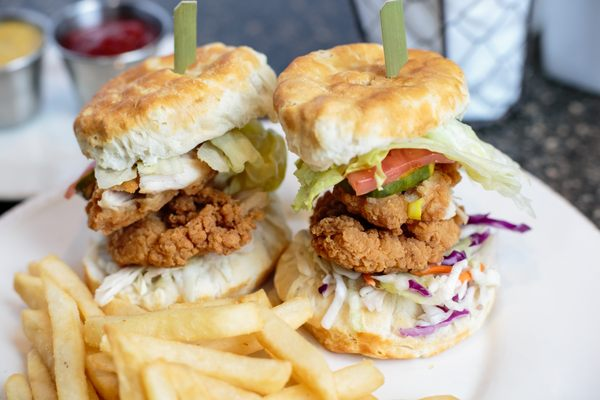pizza: (53, 0, 173, 106), (0, 9, 47, 128)
soup: (271, 32, 505, 361), (69, 42, 292, 313), (273, 39, 517, 276)
